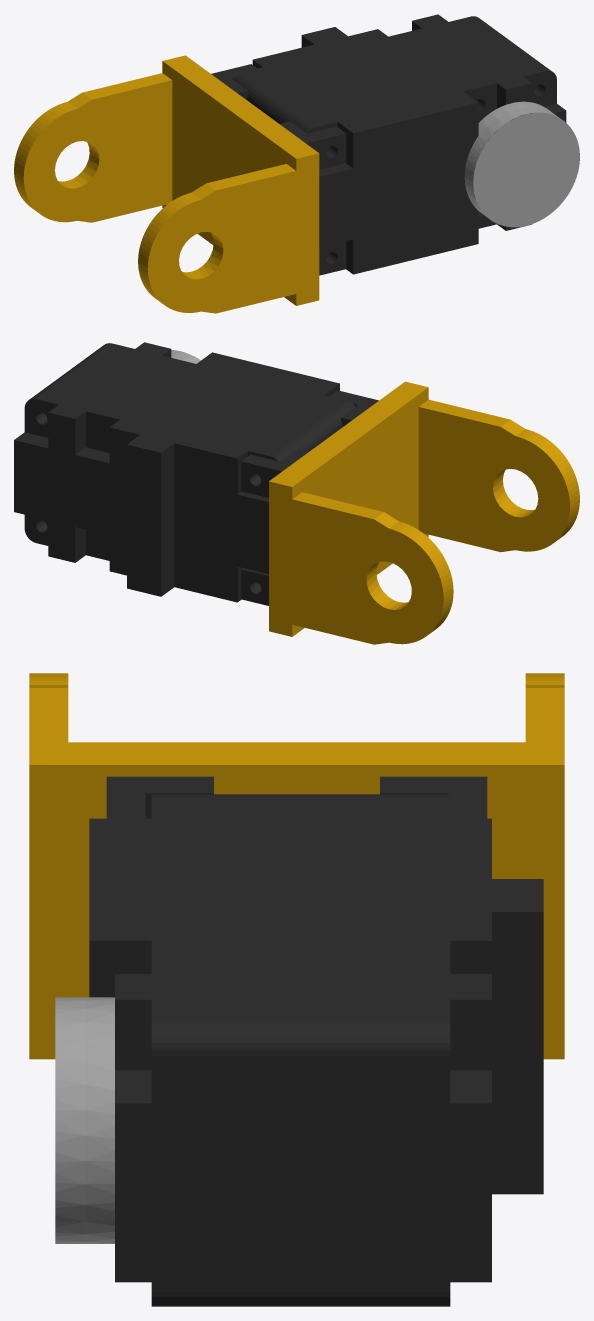
Rendered from femur.dae.
3 views of the same model, one above another, from view 1: azimuth 30°, elevation 25°; view 2: azimuth 150°, elevation 25°; view 3: azimuth 270°, elevation 25° (orthographic). The views are drawn at different scales.
Parts seen in each view (by area): view 1: femur; view 2: femur; view 3: femur.
Part boxes in pixels (x1,y1,x2,y2): femur: (14,14,579,313); femur: (14,342,579,644); femur: (29,673,564,1306).
Bounding box in the file's own units: 0.0782 × 0.0412 × 0.025.
